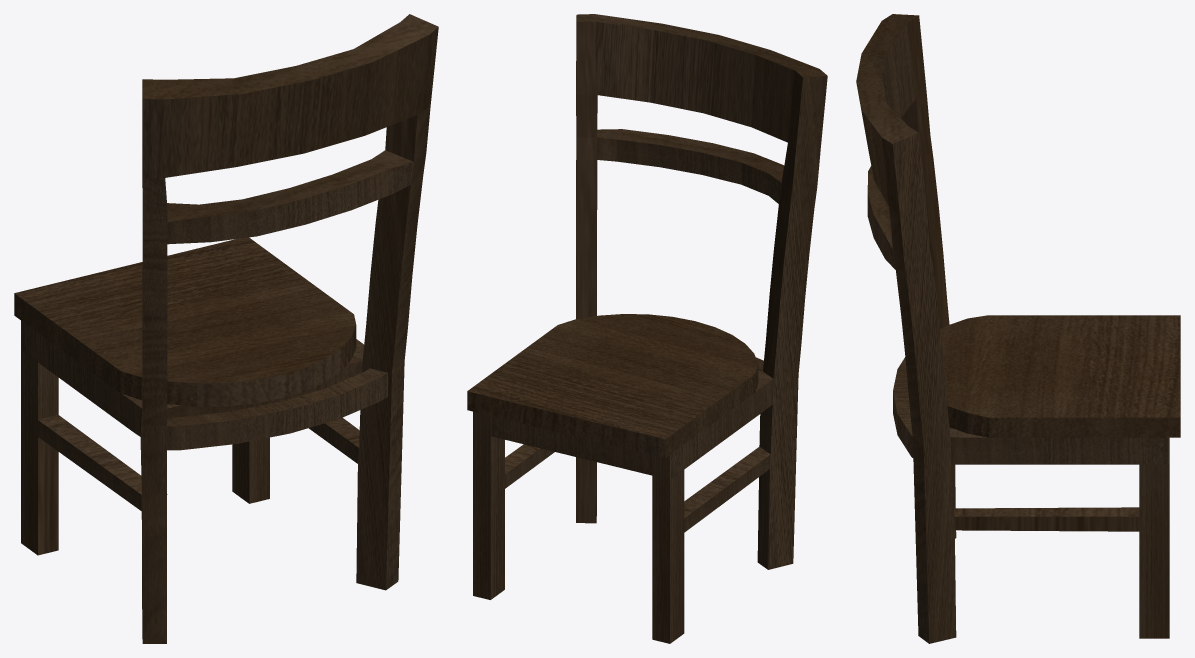
File: Chair.fbx
The picture shows the model from 3 angles, left to right: view 1: azimuth 30°, elevation 25°; view 2: azimuth 150°, elevation 25°; view 3: azimuth 270°, elevation 25°; orthographic projection. The views are drawn at different scales.
Visible parts, largest first — view 1: Cube.001, Cube; view 2: Cube.001, Cube; view 3: Cube.001, Cube.
Part boxes in pixels (<box>): Cube.001: <box>21,14,438,643</box>; Cube: <box>14,237,356,406</box>; Cube.001: <box>473,14,827,643</box>; Cube: <box>467,314,758,458</box>; Cube.001: <box>856,14,1169,643</box>; Cube: <box>940,315,1180,437</box>.
Size of the model in its own units: 246 by 453 by 260.
Materials: 1 (1 with a texture image).
